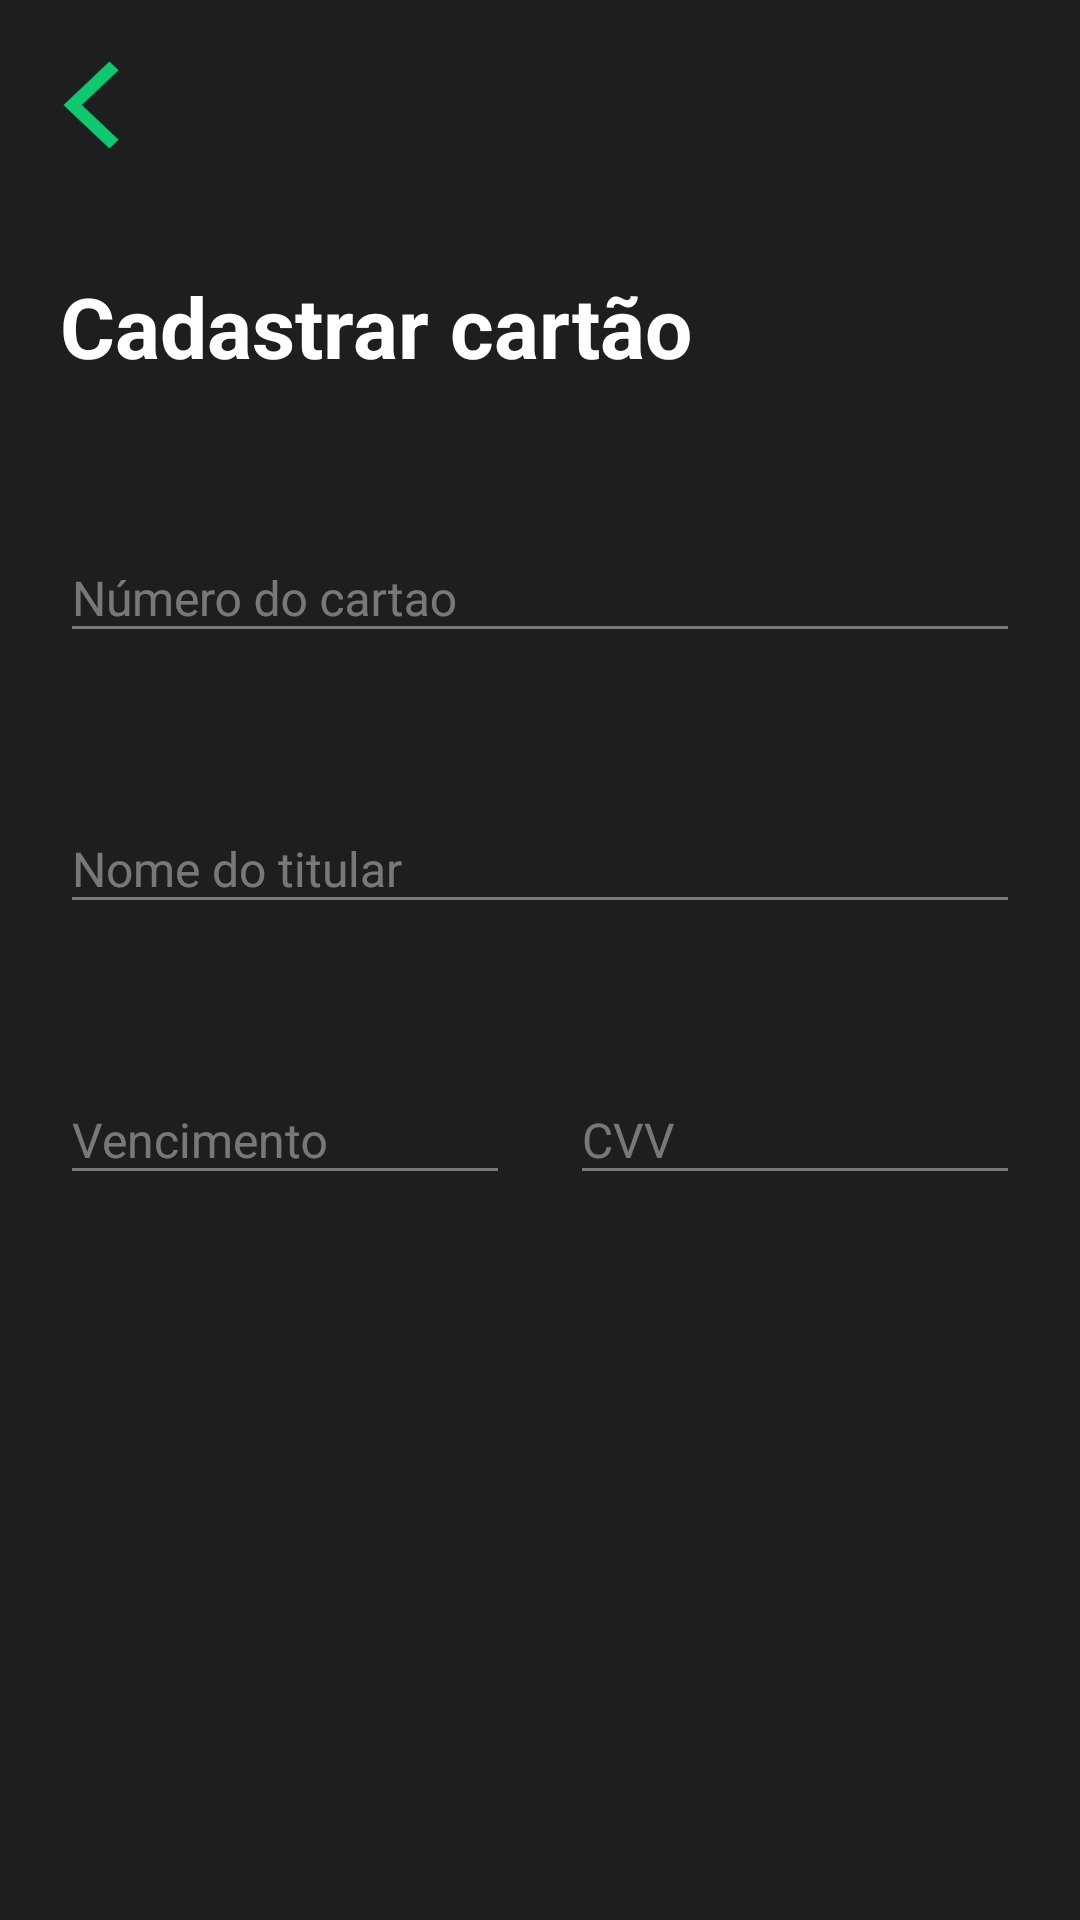

Named icons in this screenshot (1080 × 1920) and their centers, (x=x, y=y):
back: (x=91, y=105)
